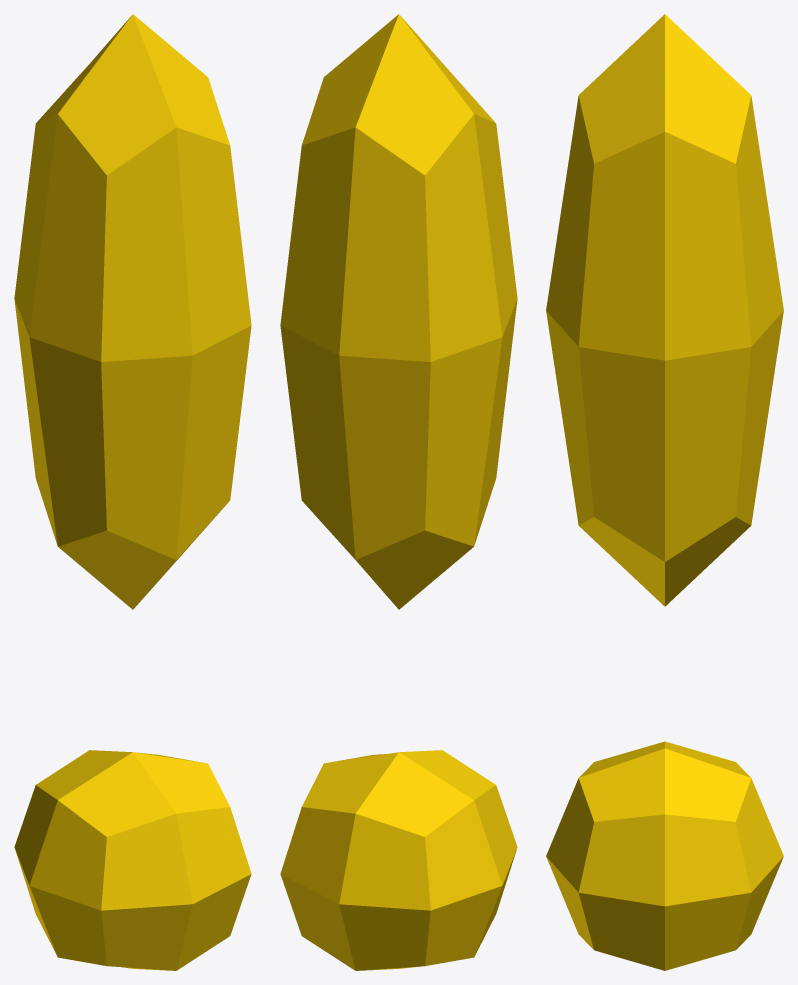
The model's file is SignFollow.fbx.
3 renders of one model, left to right at view 1: azimuth 30°, elevation 25°; view 2: azimuth 150°, elevation 25°; view 3: azimuth 270°, elevation 25°, orthographic.
Visible parts, largest first — view 1: Cube; view 2: Cube; view 3: Cube.
Boxes of the visible parts, <box> form: Cube: <box>14,14,251,970</box>; Cube: <box>280,14,517,970</box>; Cube: <box>546,14,783,970</box>.
Size of the model in its own units: 0.3358 by 1.48 by 0.3358.
